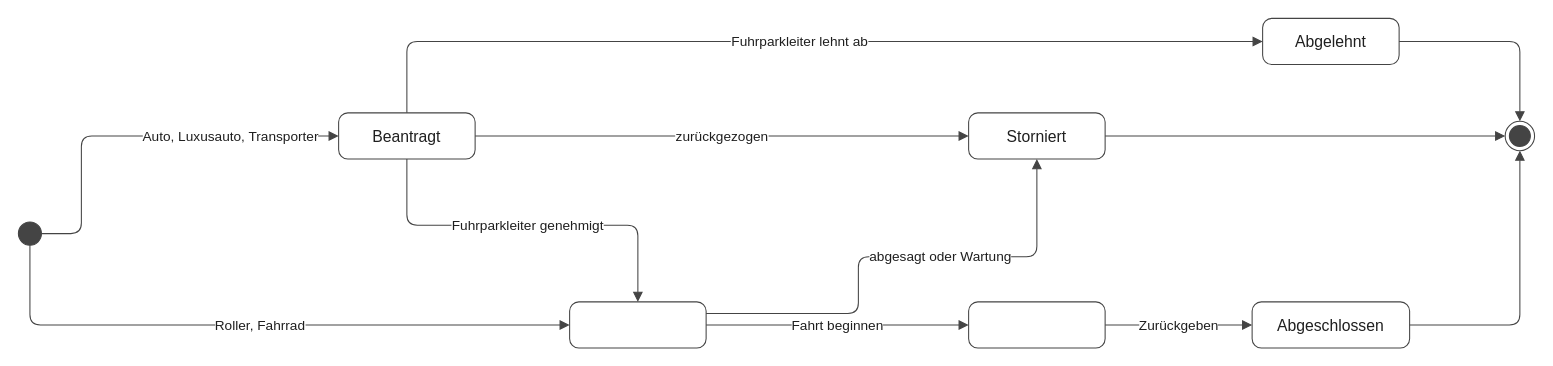
The diagram is 1553 pixels wide and 366 high, and some of its shapes have lost their labels. Here are the shapes that lost their labels. From the top down, the centre of each, then its label:
[637,324]: Genehmigt
[1036,324]: Unterwegs
